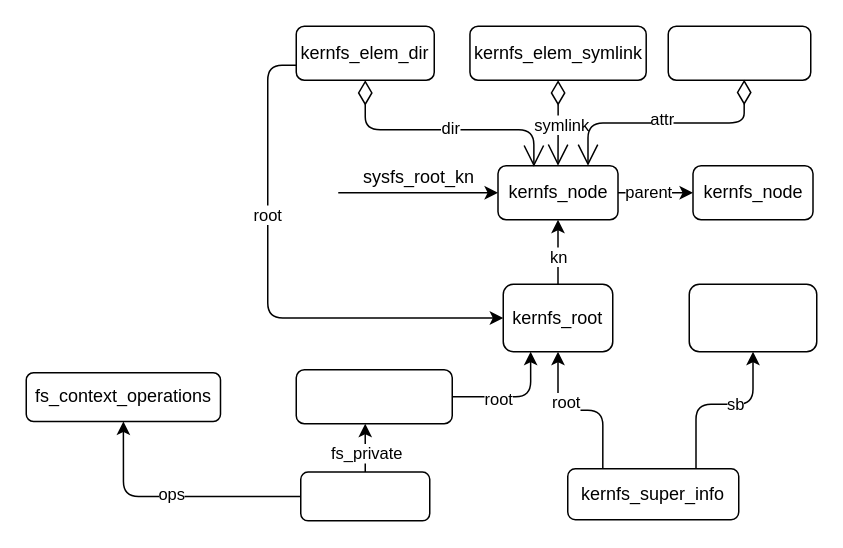
Some shapes in this 843 by 548 pixel diagram are drawn without their labels. Here are the shapes that lost their labels. From the top down, the centre of each, then its label:
At (739,52): "kernfs_elem_attr".
At (752,317): "super_block".
At (373,396): "kernfs_fs_context".
At (364,496): "fs_context".
